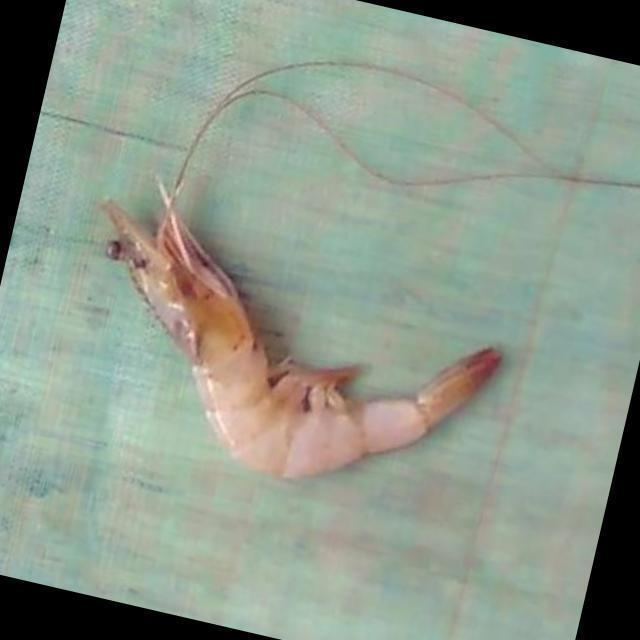shrimp: (102, 187, 502, 478)
